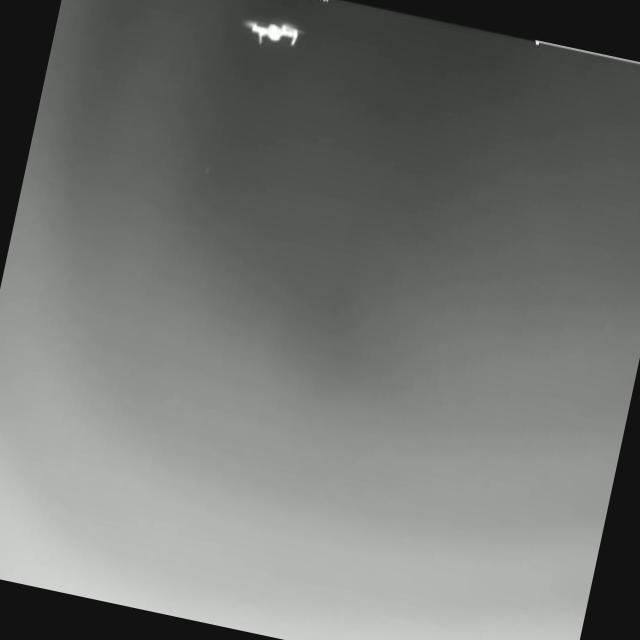DRONE: (234, 17, 309, 50)
